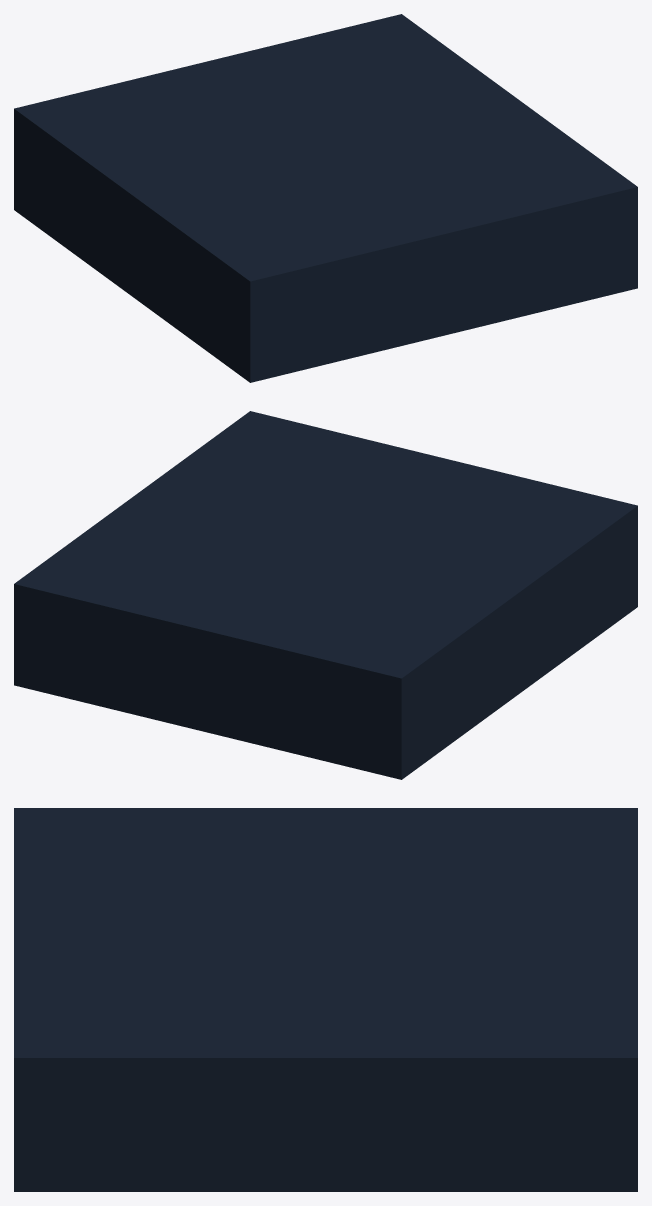
The model's file is link-github.glb.
3 views of the same model, one above another, from view 1: azimuth 30°, elevation 25°; view 2: azimuth 150°, elevation 25°; view 3: azimuth 270°, elevation 25° (orthographic). The views are drawn at different scales.
Parts seen in each view (by area): view 1: cel_ink_link github; view 2: cel_ink_link github; view 3: cel_ink_link github.
Boxes of the visible parts, bbox=[...] form: cel_ink_link github: bbox=[14, 14, 637, 382]; cel_ink_link github: bbox=[14, 411, 637, 779]; cel_ink_link github: bbox=[14, 808, 637, 1191].
Bounding box in the file's own units: 1.8 × 0.57 × 1.9.
